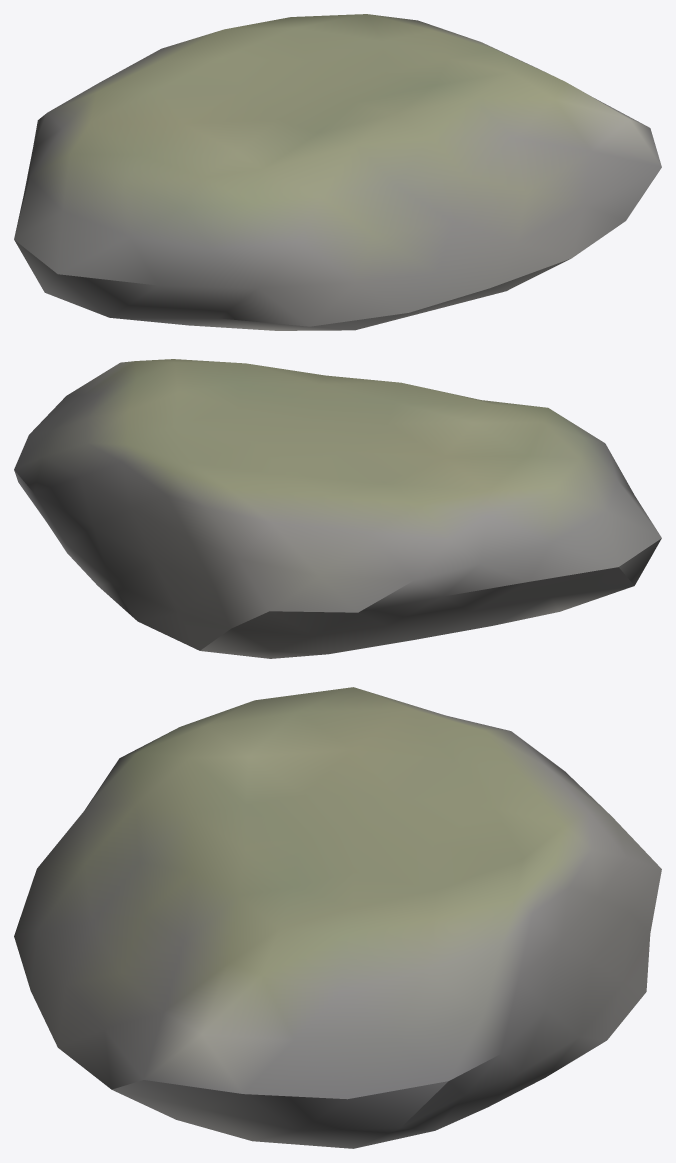
The model's file is Mtn_Slab_A.fbx.
3 renders of one model, top to bottom at view 1: azimuth 30°, elevation 25°; view 2: azimuth 150°, elevation 25°; view 3: azimuth 270°, elevation 25°, orthographic. The views are drawn at different scales.
Parts seen in each view (by area): view 1: Mtn_Slab_A; view 2: Mtn_Slab_A; view 3: Mtn_Slab_A.
Part boxes in pixels (left/top/right/bottom): Mtn_Slab_A: left=14, top=14, right=661, bottom=330; Mtn_Slab_A: left=14, top=359, right=661, bottom=658; Mtn_Slab_A: left=14, top=687, right=661, bottom=1148.
Bounding box in the file's own units: 6.95 × 1.79 × 5.35.
